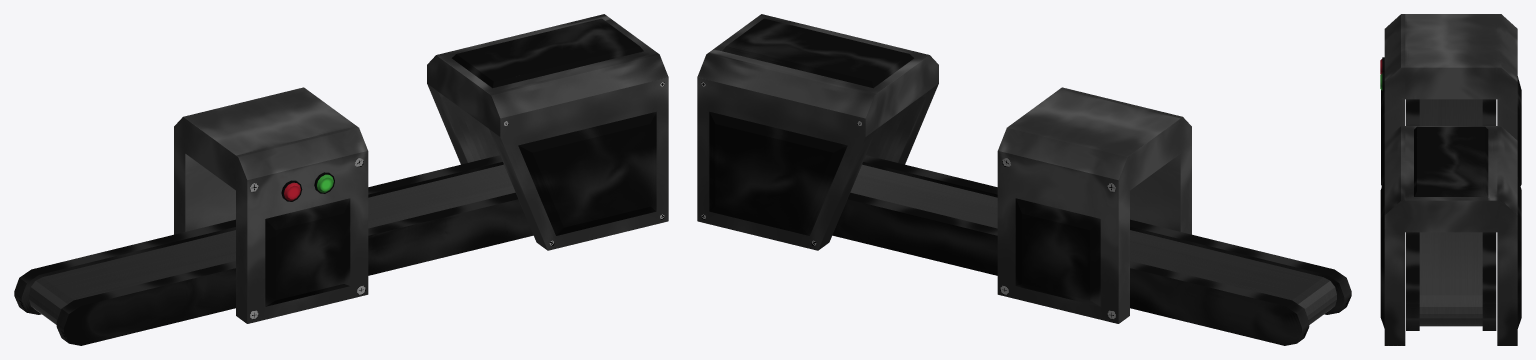
File: scan_machine.fbx
3 renders of one model, left to right at view 1: azimuth 30°, elevation 25°; view 2: azimuth 150°, elevation 25°; view 3: azimuth 270°, elevation 25°, orthographic. The views are drawn at different scales.
Visible parts, largest first — view 1: Machine; view 2: Machine; view 3: Machine.
Boxes of the visible parts, x1,y1,x2,y2 form: Machine: (14, 14, 668, 345); Machine: (697, 14, 1351, 345); Machine: (1380, 14, 1521, 345).
Bounding box in the file's own units: 564 × 150 × 128.
